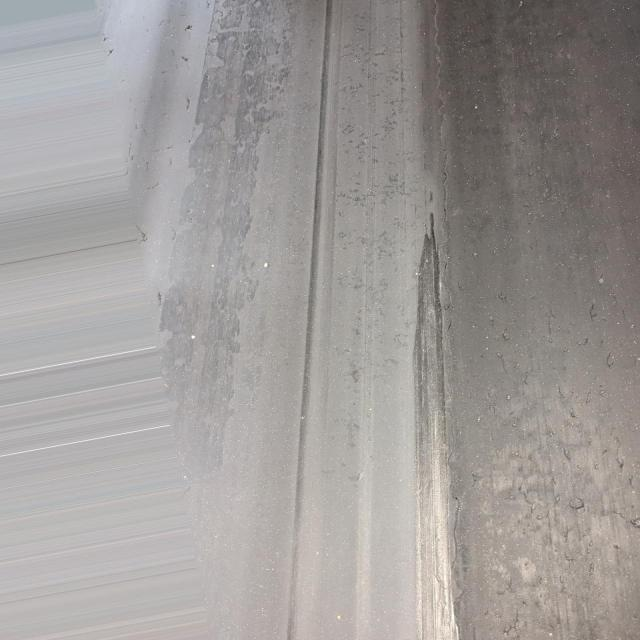impact damage: (411, 208, 456, 640)
